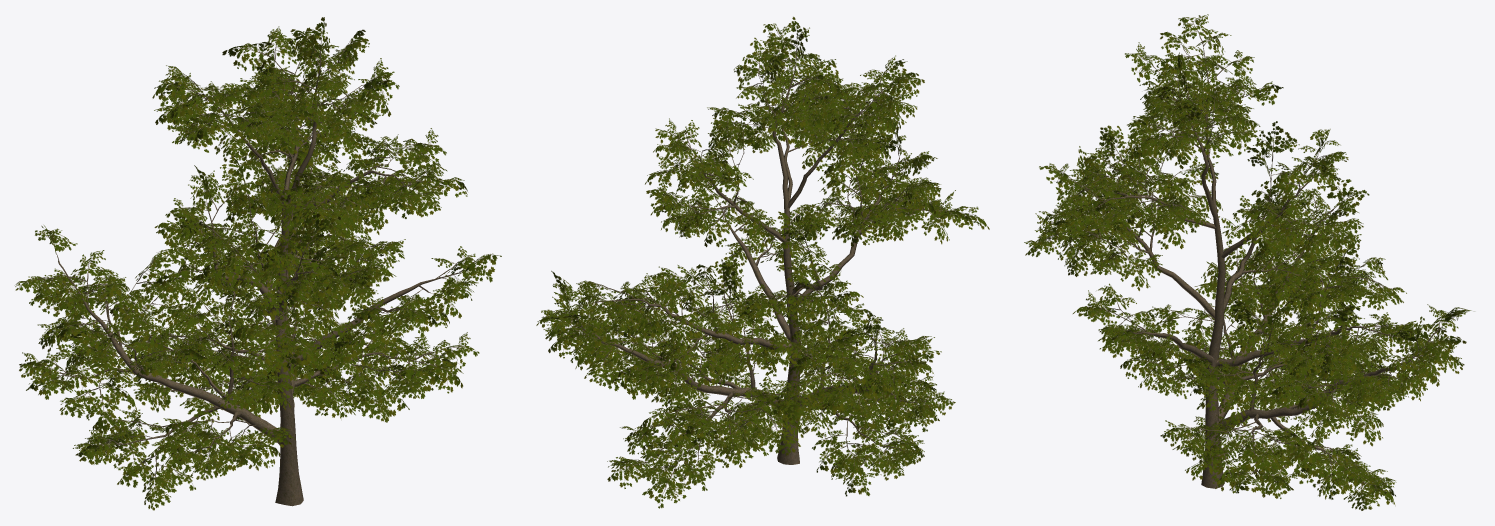
File: maple_acer_large_1_lod0.gltf
3 renders of one model, left to right at view 1: azimuth 30°, elevation 25°; view 2: azimuth 150°, elevation 25°; view 3: azimuth 270°, elevation 25°, orthographic. The views are drawn at different scales.
Visible parts, largest first — view 1: Acer_large_1_LOD0_Cluster_Mat_0, Acer_large_1_LOD0_Bark_Mat_0; view 2: Acer_large_1_LOD0_Cluster_Mat_0, Acer_large_1_LOD0_Bark_Mat_0; view 3: Acer_large_1_LOD0_Cluster_Mat_0, Acer_large_1_LOD0_Bark_Mat_0.
Part boxes in pixels (x1=…): Acer_large_1_LOD0_Cluster_Mat_0: x1=15, y1=17, x2=501, y2=510; Acer_large_1_LOD0_Bark_Mat_0: x1=52, y1=59, x2=458, y2=506; Acer_large_1_LOD0_Cluster_Mat_0: x1=536, y1=16, x2=989, y2=508; Acer_large_1_LOD0_Bark_Mat_0: x1=565, y1=54, x2=946, y2=471; Acer_large_1_LOD0_Cluster_Mat_0: x1=1024, y1=14, x2=1474, y2=510; Acer_large_1_LOD0_Bark_Mat_0: x1=1063, y1=42, x2=1440, y2=488.
Bounding box in the file's own units: 18.69 × 20.78 × 19.72.
Materials: 2 (2 with a texture image).
